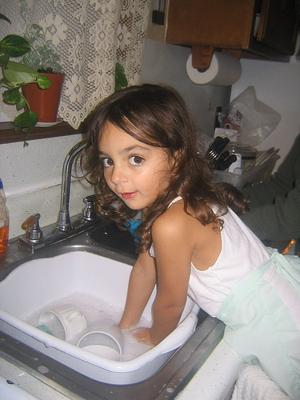person: (78, 76, 300, 400)
